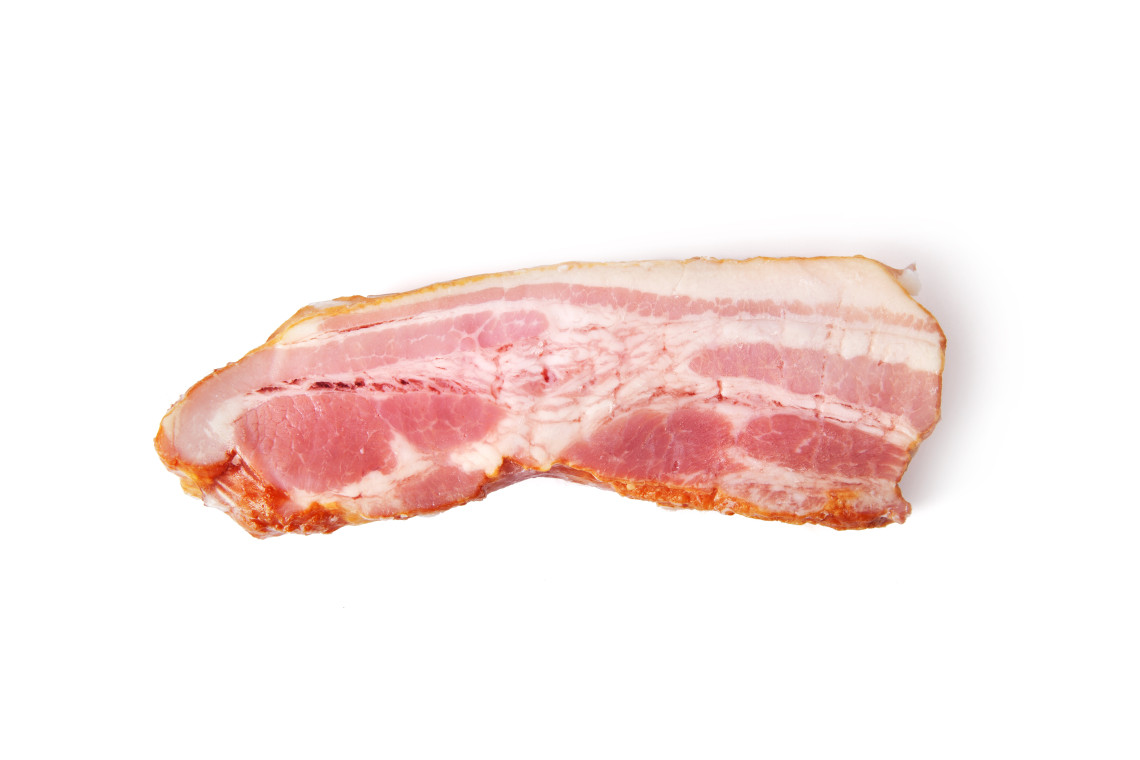bacon: (125, 247, 1043, 594)
